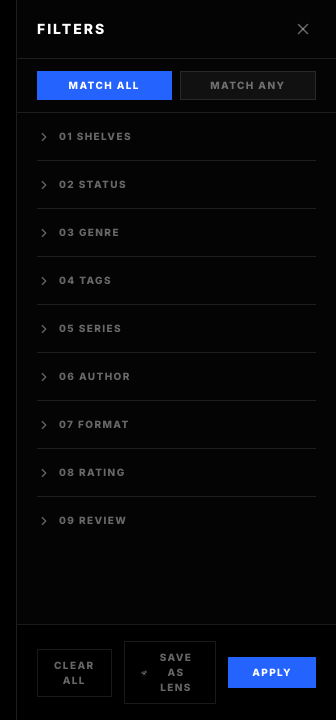
Scenario: FilterDrawer › expands accordion on click to show items
Genre section should be collapsed by default
Step 1. Click the button with test id "accordion-genre" → (99,232), box [37,225,316,240]
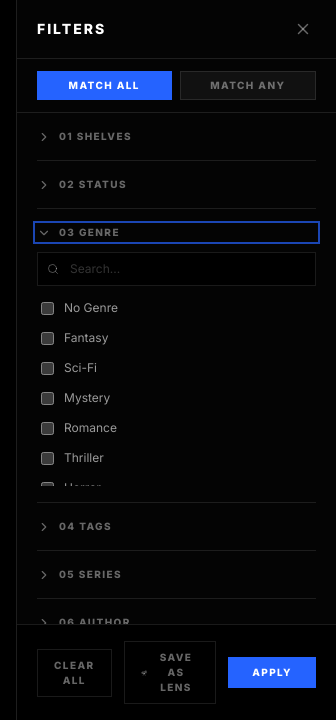
Result: the text "Fantasy" is shown at [64,330,108,346]
Result: the text "Sci-Fi" is shown at [64,360,97,376]
Result: the text "Mystery" is shown at [64,390,110,406]
